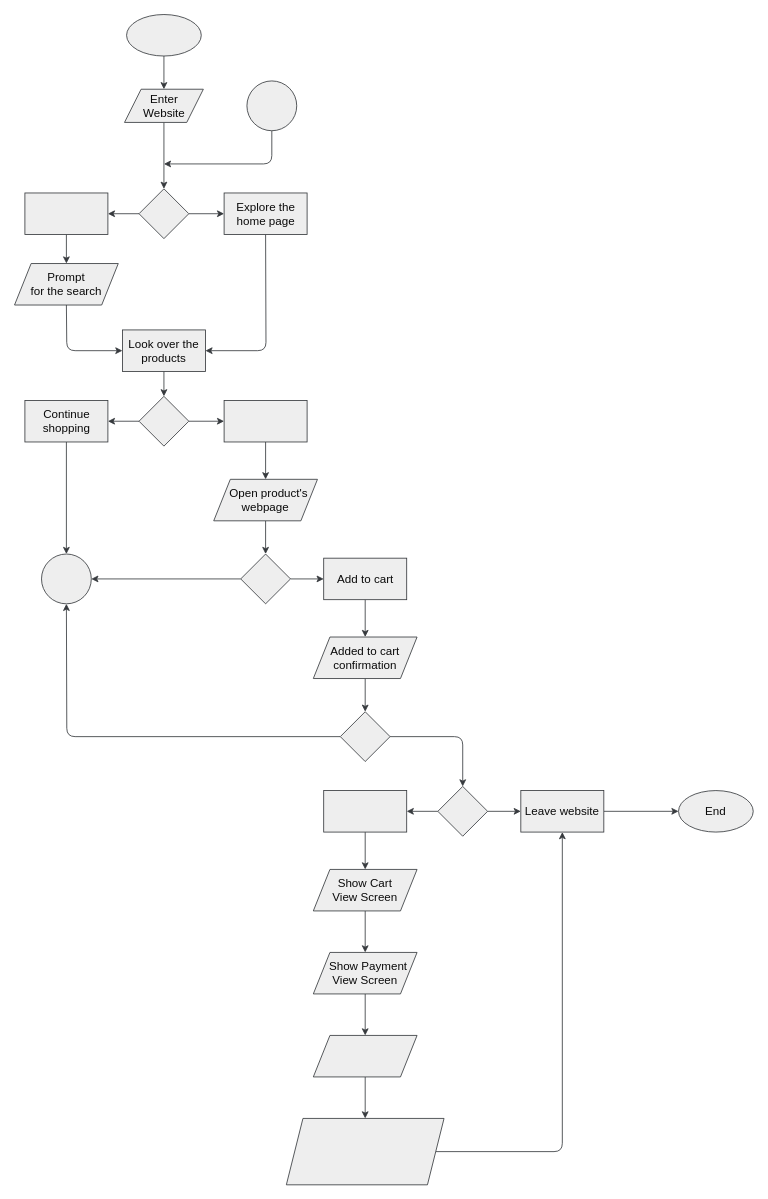
This 768x1199 diagram has some shape labels left out. Here are the shapes that lost their labels. From the top down, the centre of each, then its label:
(x=163, y=35): Start
(x=66, y=213): Search for a product
(x=265, y=421): View specific product
(x=365, y=811): Checkout
(x=364, y=1056): Prompt for payment information
(x=365, y=1151): Show payment confirmation and send confirmation email
